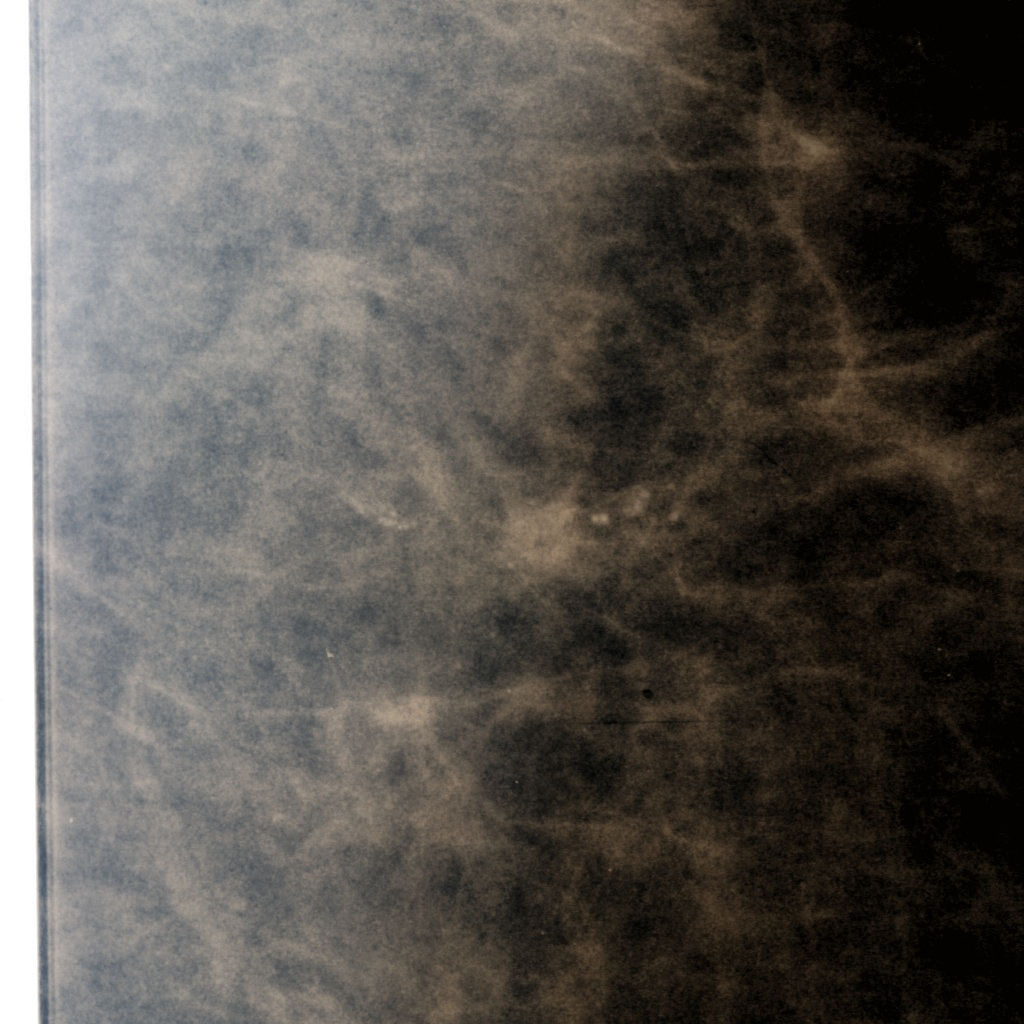tumor: (275, 432, 701, 592)
